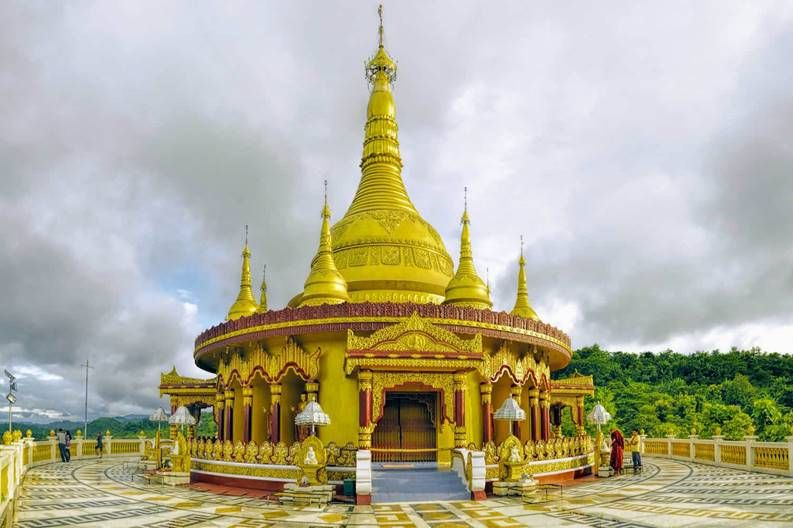Temple: (162, 9, 598, 487)
